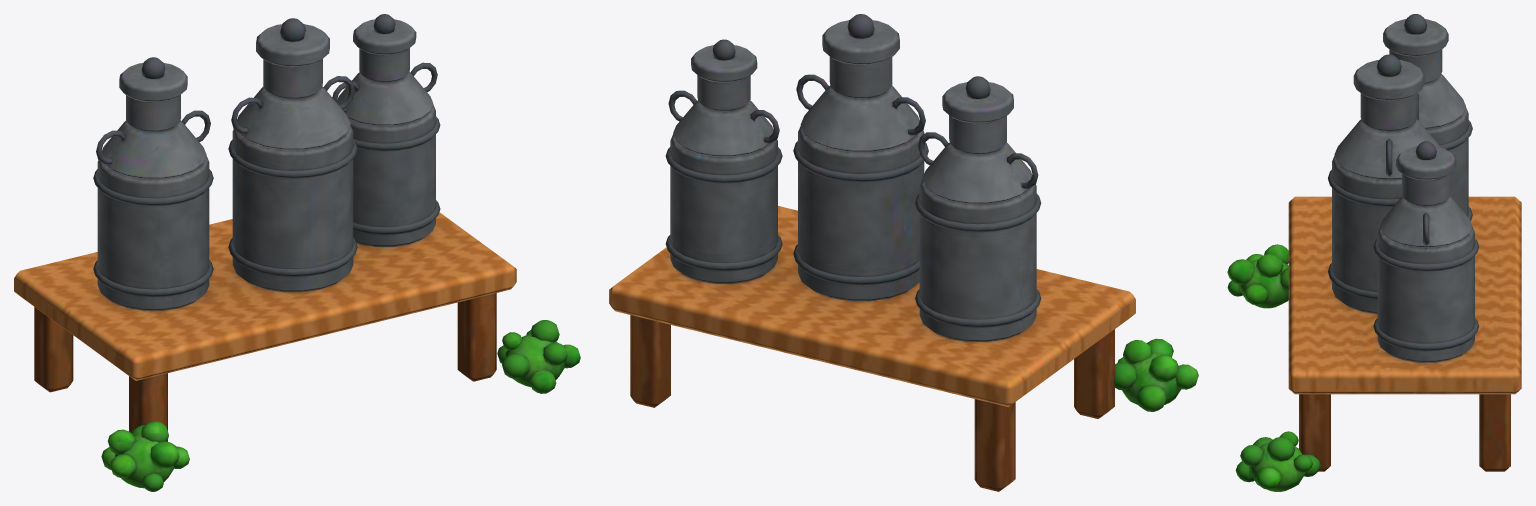
The model's file is milk_churns.glb.
The picture shows the model from 3 angles, left to right: view 1: azimuth 30°, elevation 25°; view 2: azimuth 150°, elevation 25°; view 3: azimuth 270°, elevation 25°; orthographic projection. The views are drawn at different scales.
Visible parts, largest first — view 1: milk_churns; view 2: milk_churns; view 3: milk_churns.
Part boxes in pixels (x1=…): milk_churns: x1=14, y1=14, x2=580, y2=491; milk_churns: x1=609, y1=14, x2=1198, y2=491; milk_churns: x1=1227, y1=14, x2=1521, y2=491.
Bounding box in the file's own units: 0.9818 × 0.7255 × 0.5555.
Materials: 1 (1 with a texture image).
